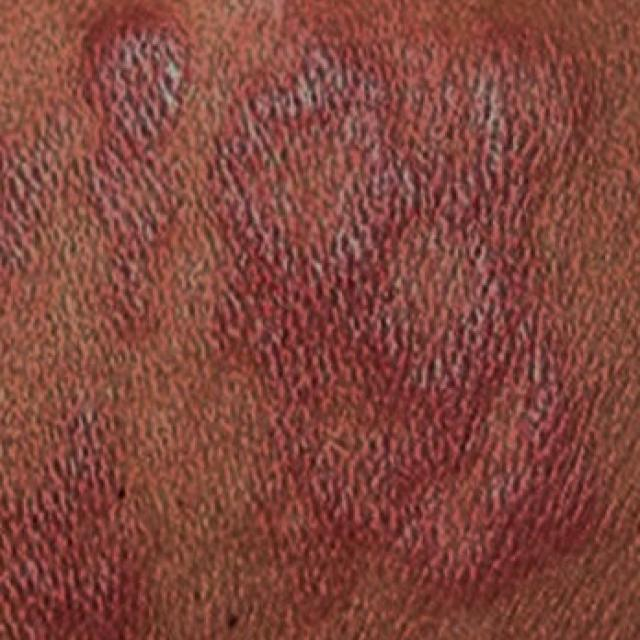Leprosy: (211, 29, 631, 596), (0, 0, 191, 325), (0, 390, 189, 640)
